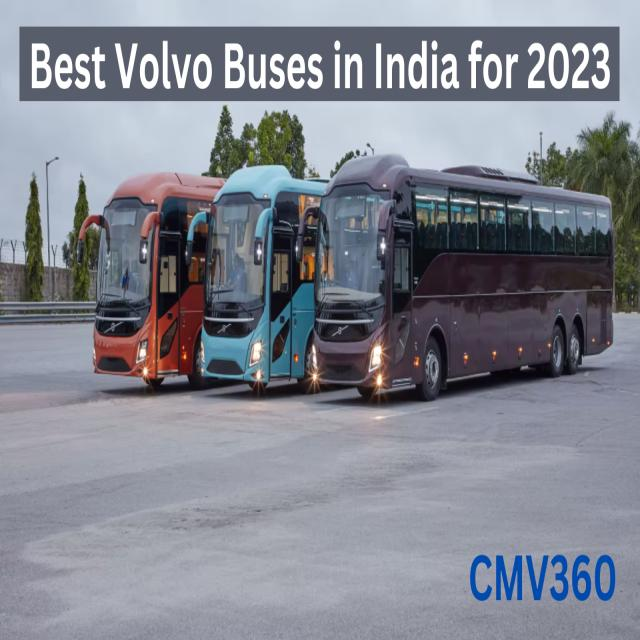bus: (296, 156, 614, 400), (75, 173, 224, 389), (201, 167, 329, 391)
